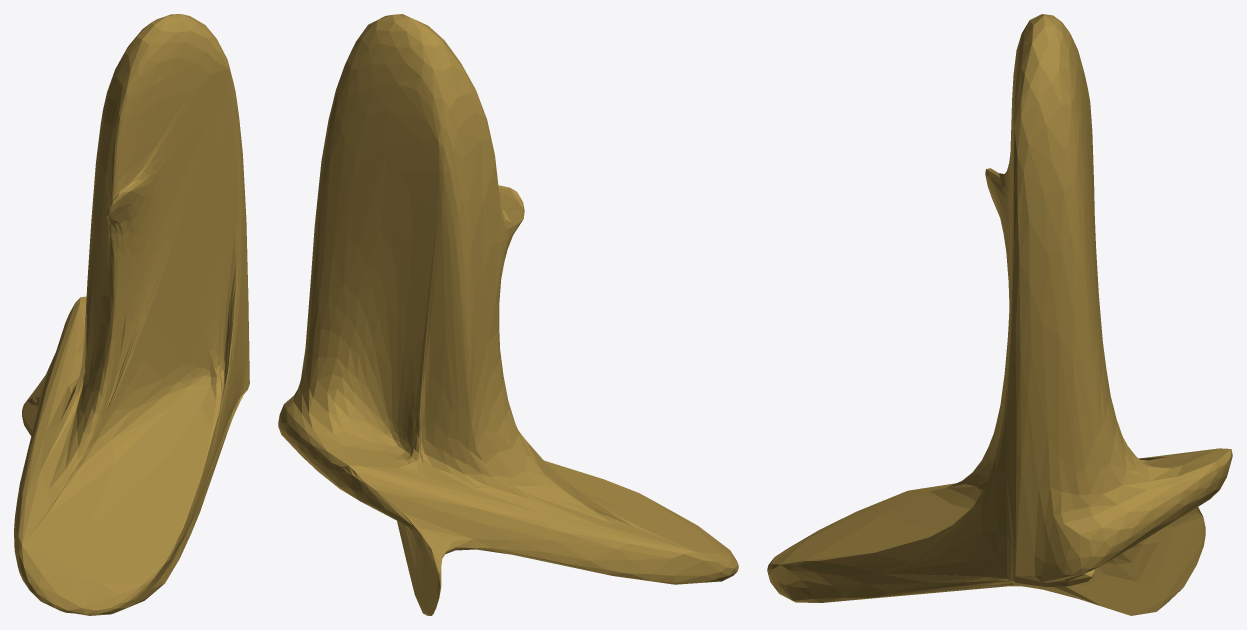
The picture shows the model from 3 angles, left to right: view 1: azimuth 30°, elevation 25°; view 2: azimuth 150°, elevation 25°; view 3: azimuth 270°, elevation 25°; orthographic projection. The views are drawn at different scales.
Parts seen in each view (by area): view 1: 992_Cube.4003; view 2: 992_Cube.4003; view 3: 992_Cube.4003.
Boxes of the visible parts, x1,y1,x2,y2 form: 992_Cube.4003: [14, 14, 249, 615]; 992_Cube.4003: [278, 14, 738, 615]; 992_Cube.4003: [767, 14, 1232, 615].
Bounding box in the file's own units: 9.17 × 14.4 × 9.14.
